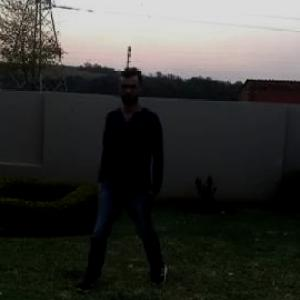follow: (106, 66, 180, 294)
